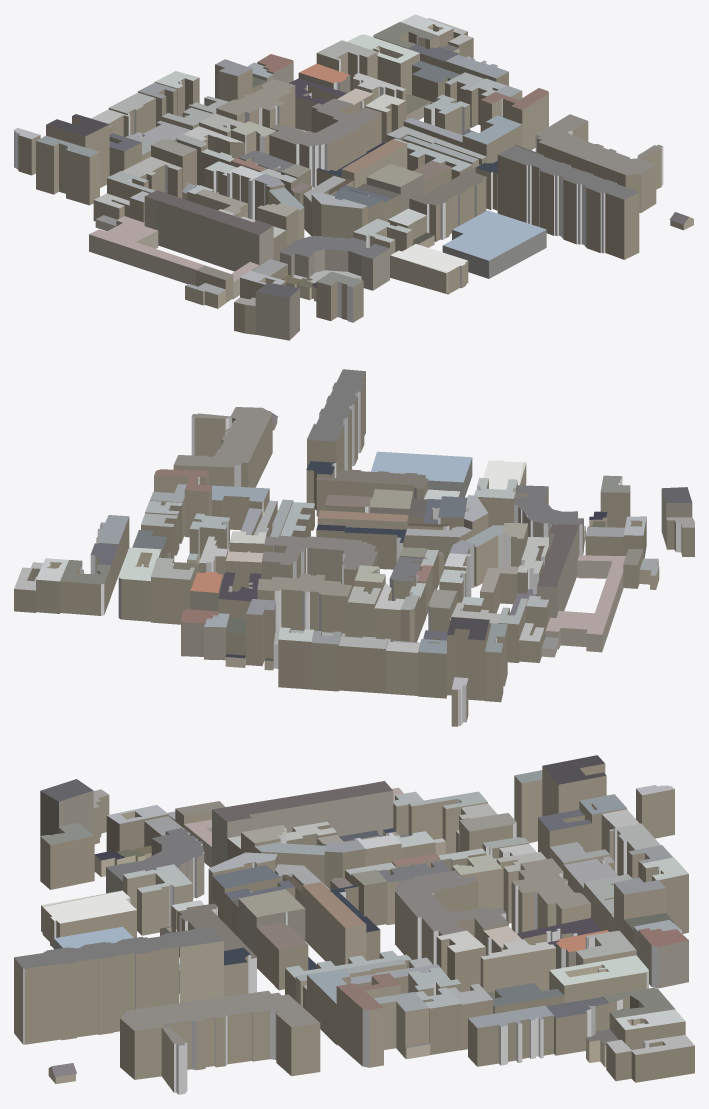
3 renders of one model, top to bottom at view 1: azimuth 30°, elevation 25°; view 2: azimuth 150°, elevation 25°; view 3: azimuth 270°, elevation 25°, orthographic. The views are drawn at different scales.
Visible parts, largest first — view 1: tuile; view 2: tuile; view 3: tuile.
Boxes of the visible parts, box(x1,y1,x2,y2) form: tuile: box(14, 14, 693, 340); tuile: box(14, 369, 694, 726); tuile: box(14, 755, 694, 1094).
Size of the model in its own units: 279 by 39.45 by 268.
